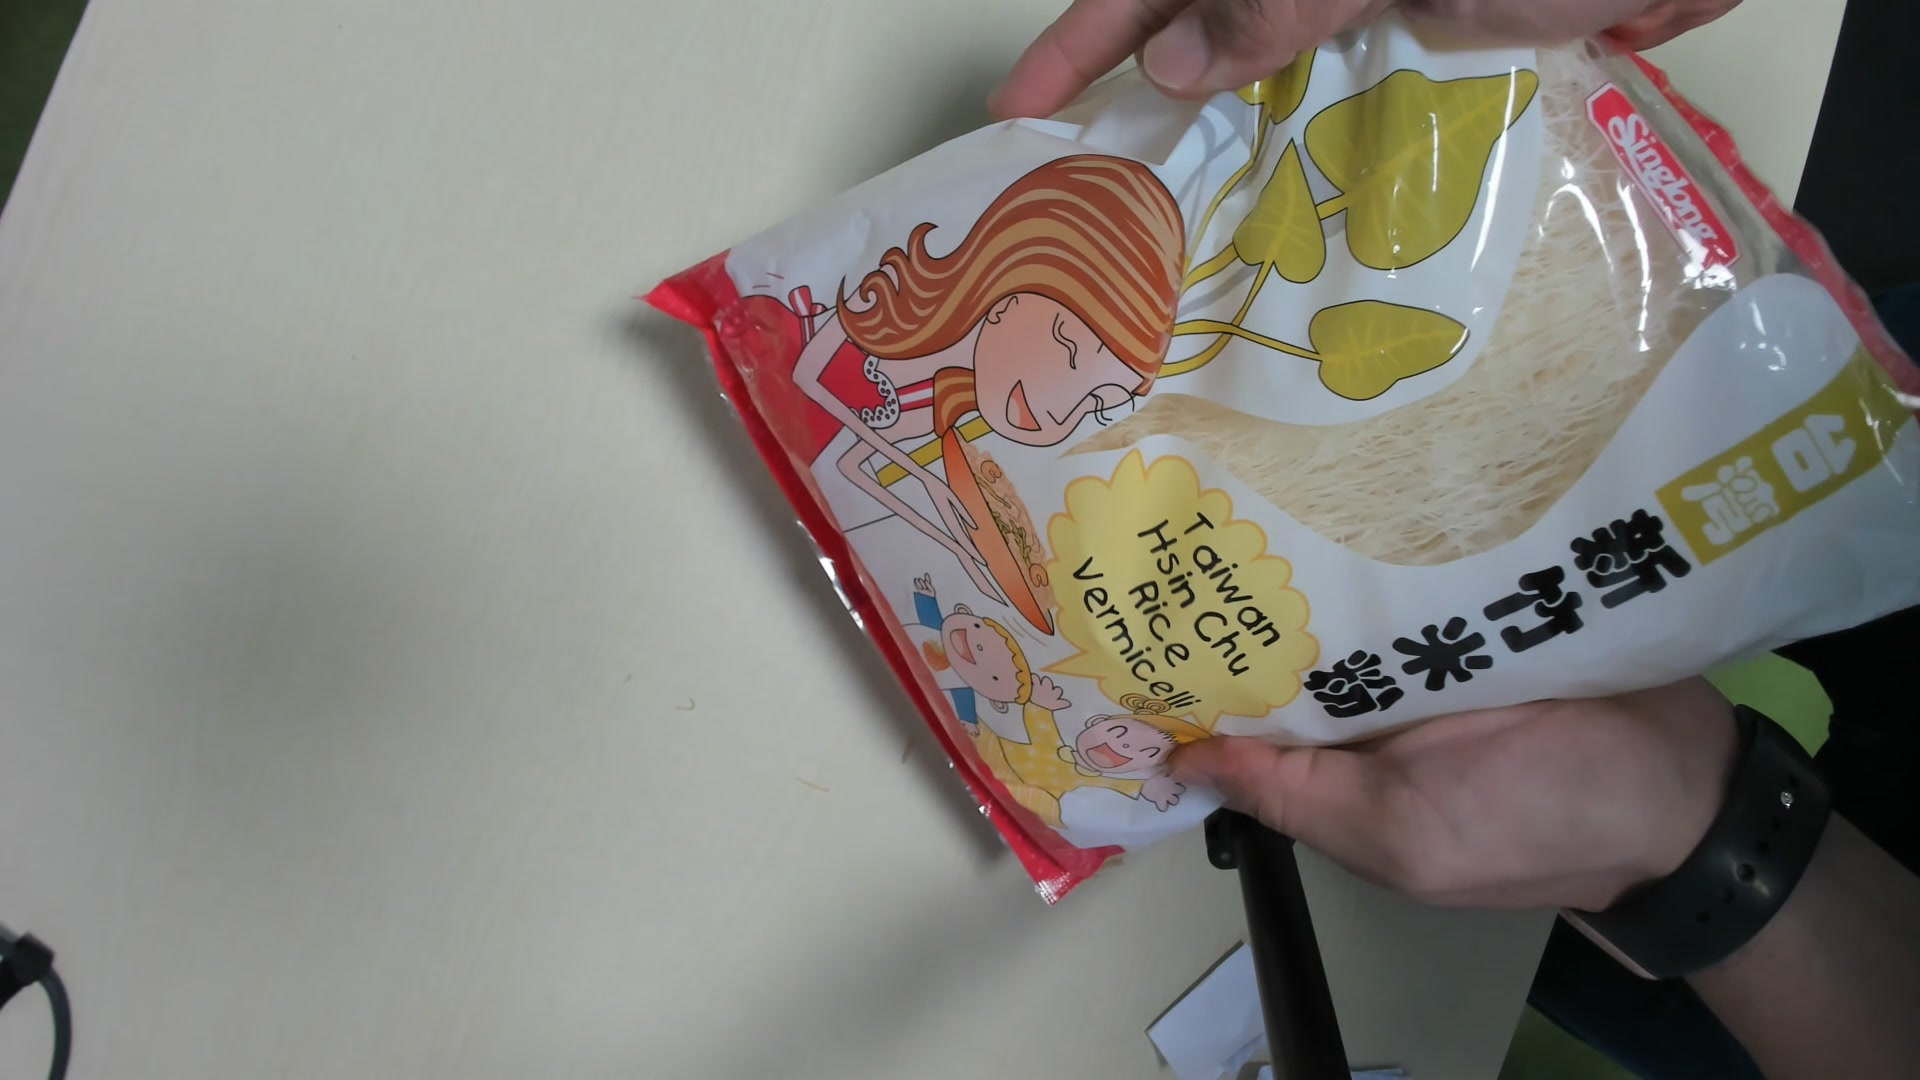BeeHoonVermicelli_0-99g_NonHalal_NonHealthy: (661, 25, 1920, 899)
